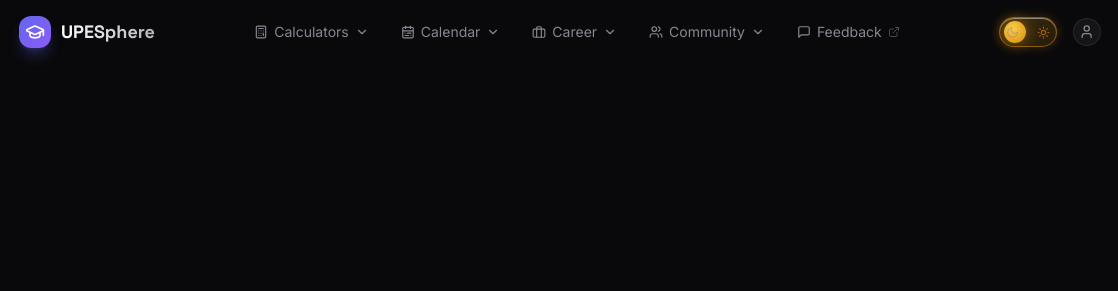
Test case: Navbar › no longer lists the Community Feed teaser
What coordinates should you click on to do the following:
click the button "Community"
I would click on:
 (707, 32)
Its box is [634,13,780,51].
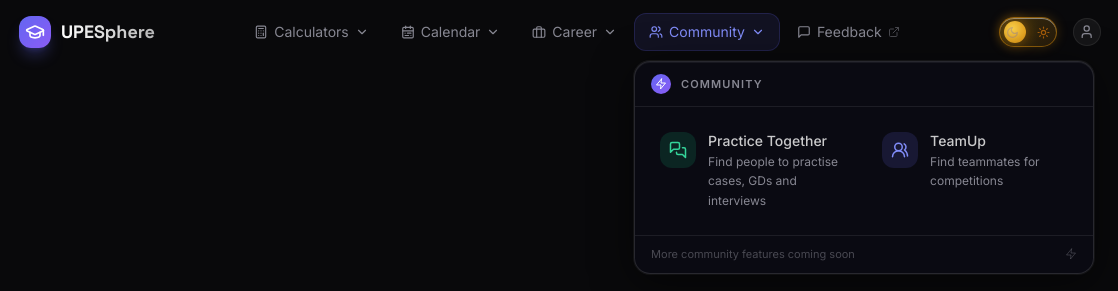
Now the navigation bar "Community Feed" is gone
